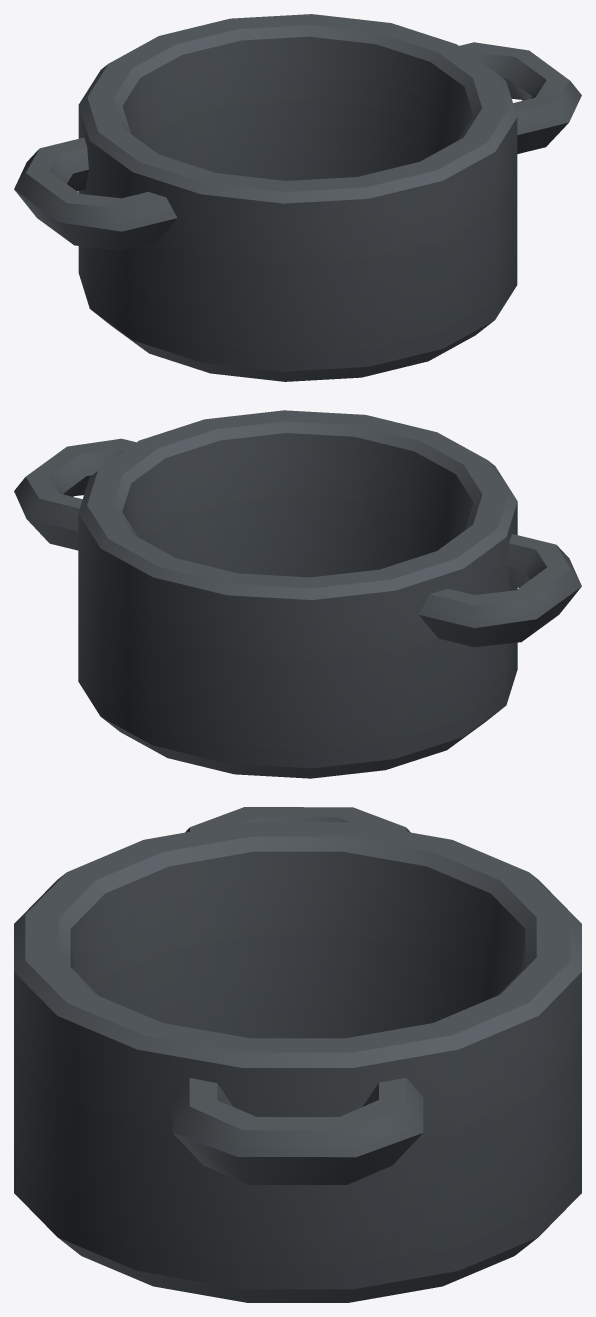
File: kaykit-restaurant-bits-pot-b.glb
3 views of the same model, one above another, from view 1: azimuth 30°, elevation 25°; view 2: azimuth 150°, elevation 25°; view 3: azimuth 270°, elevation 25° (orthographic). The views are drawn at different scales.
Visible parts, largest first — view 1: pot_B; view 2: pot_B; view 3: pot_B.
Part boxes in pixels (x1,y1,x2,y2): pot_B: (14, 14, 581, 381); pot_B: (14, 410, 581, 778); pot_B: (14, 807, 581, 1302).
Bounding box in the file's own units: 1.4 × 0.4999 × 1.
1 material, 1 textured.
